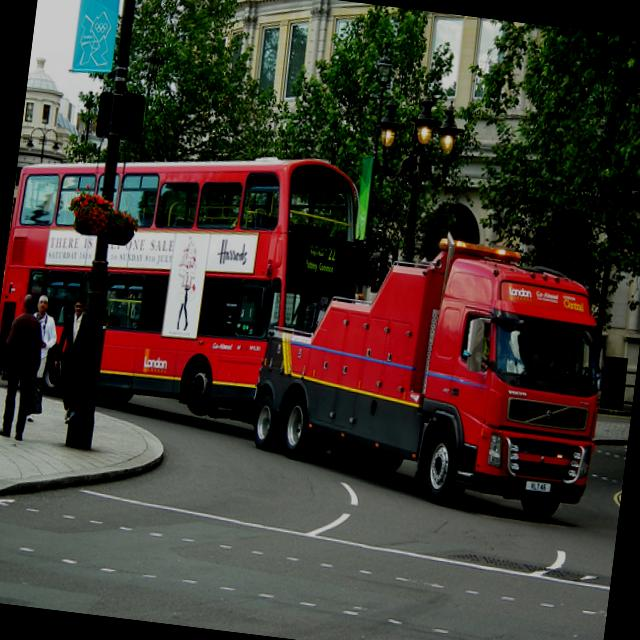Vehicle: (242, 210, 618, 525), (0, 121, 368, 434)
